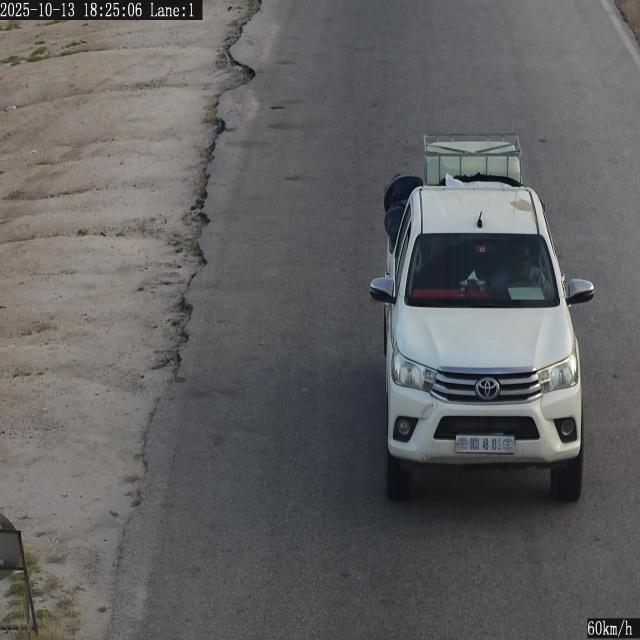BUS: (456, 435, 514, 454)
